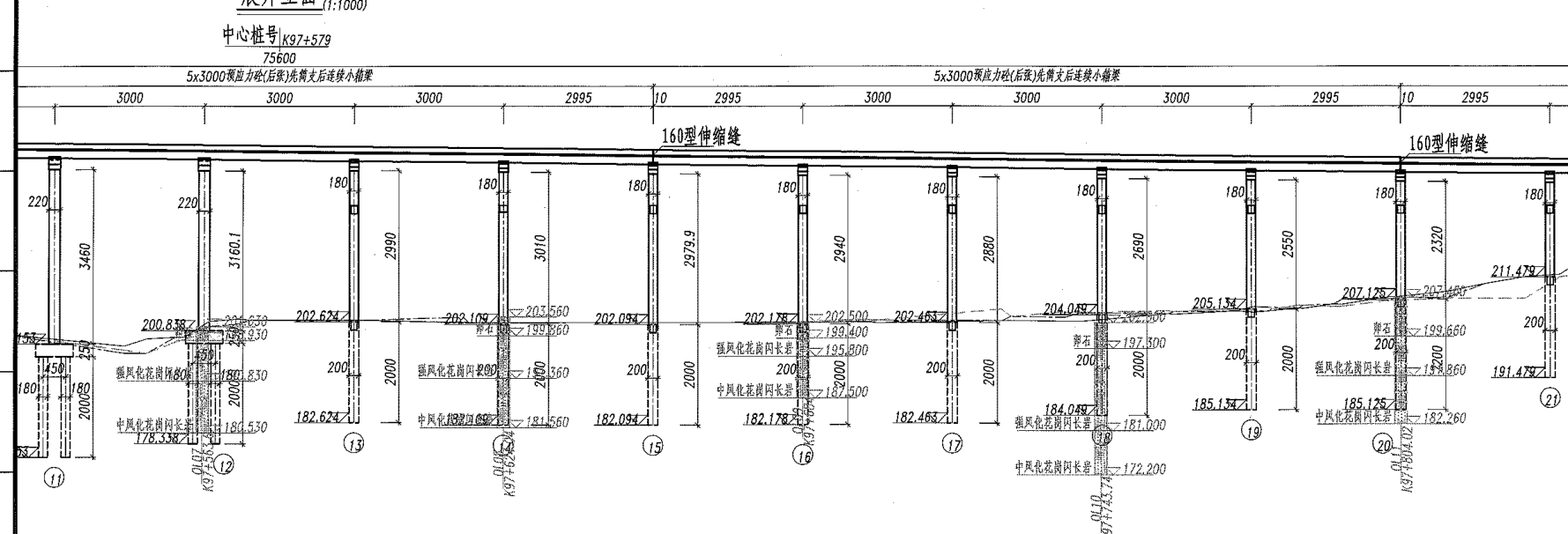A: (20, 49, 1561, 80)
B: (649, 63, 1417, 93), (20, 65, 659, 91)
C: (132, 154, 233, 484), (733, 162, 824, 472), (286, 158, 377, 458), (883, 162, 974, 457), (586, 161, 675, 461), (435, 159, 524, 456), (1182, 166, 1273, 443), (1332, 166, 1417, 459), (1037, 164, 1123, 450), (1483, 166, 1567, 414), (24, 151, 80, 493)
